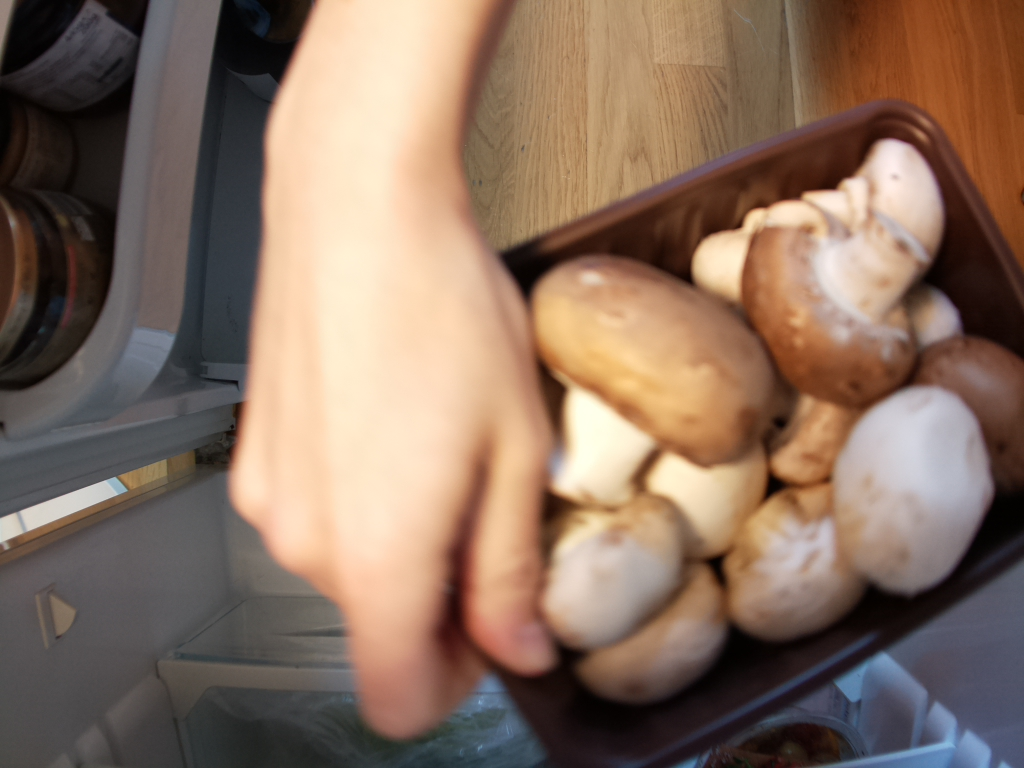mushrooms: (520, 102, 1024, 768)
